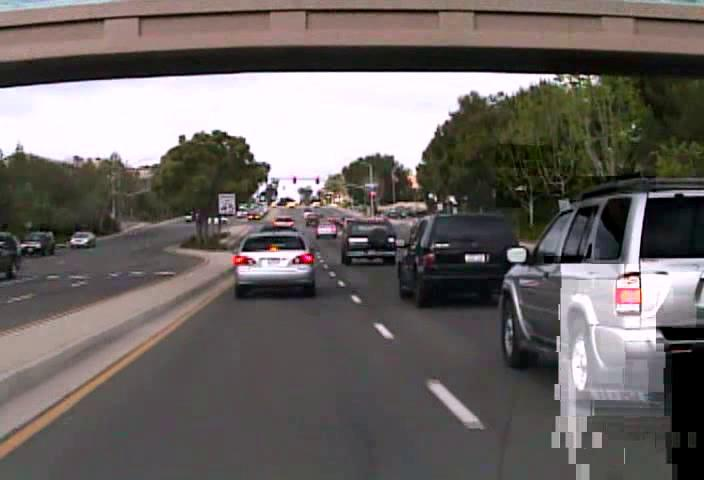speedLimit45: (218, 193, 235, 214)
